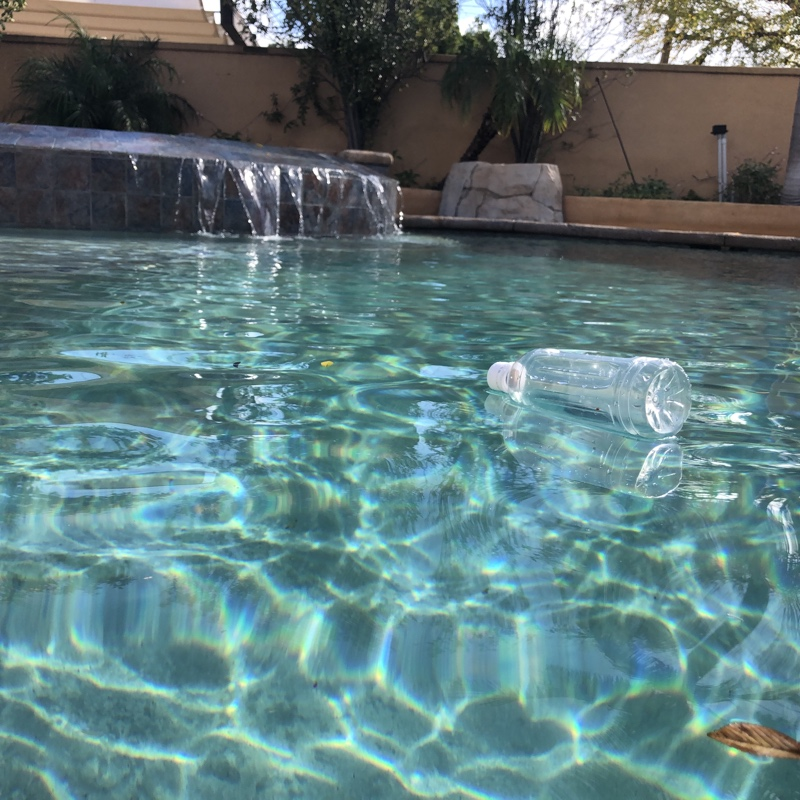Plastic Bottle: (483, 344, 695, 442)
